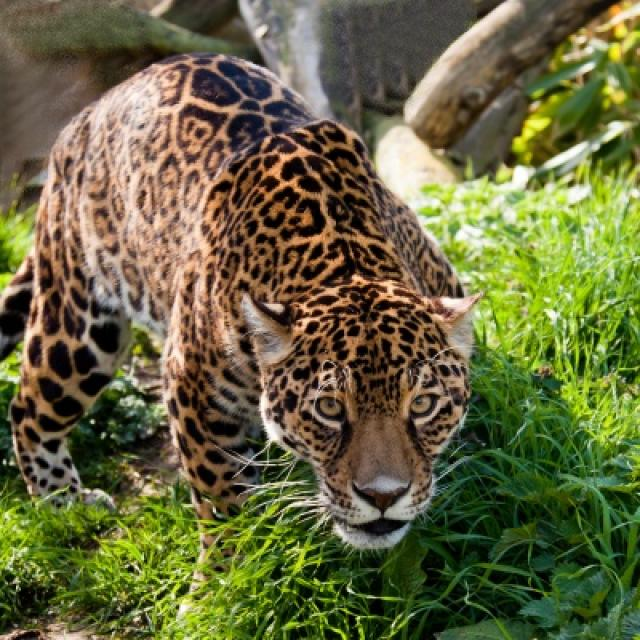Jaguar: (0, 54, 477, 555)
